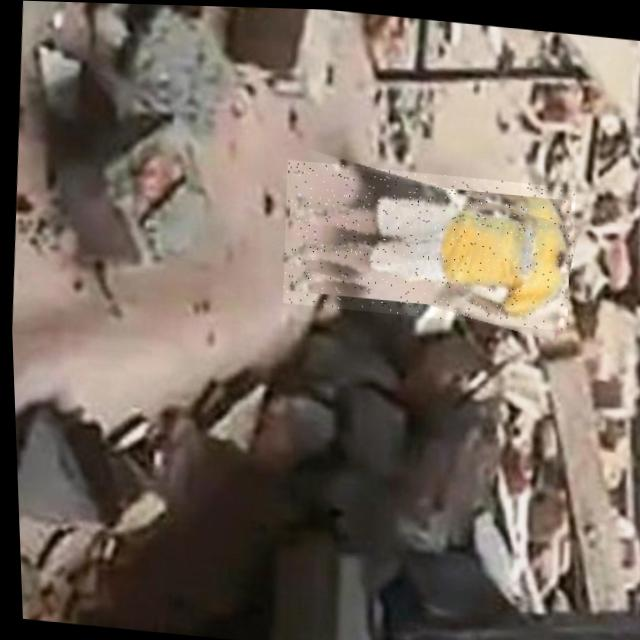Person in Rubble: (275, 157, 577, 328)
